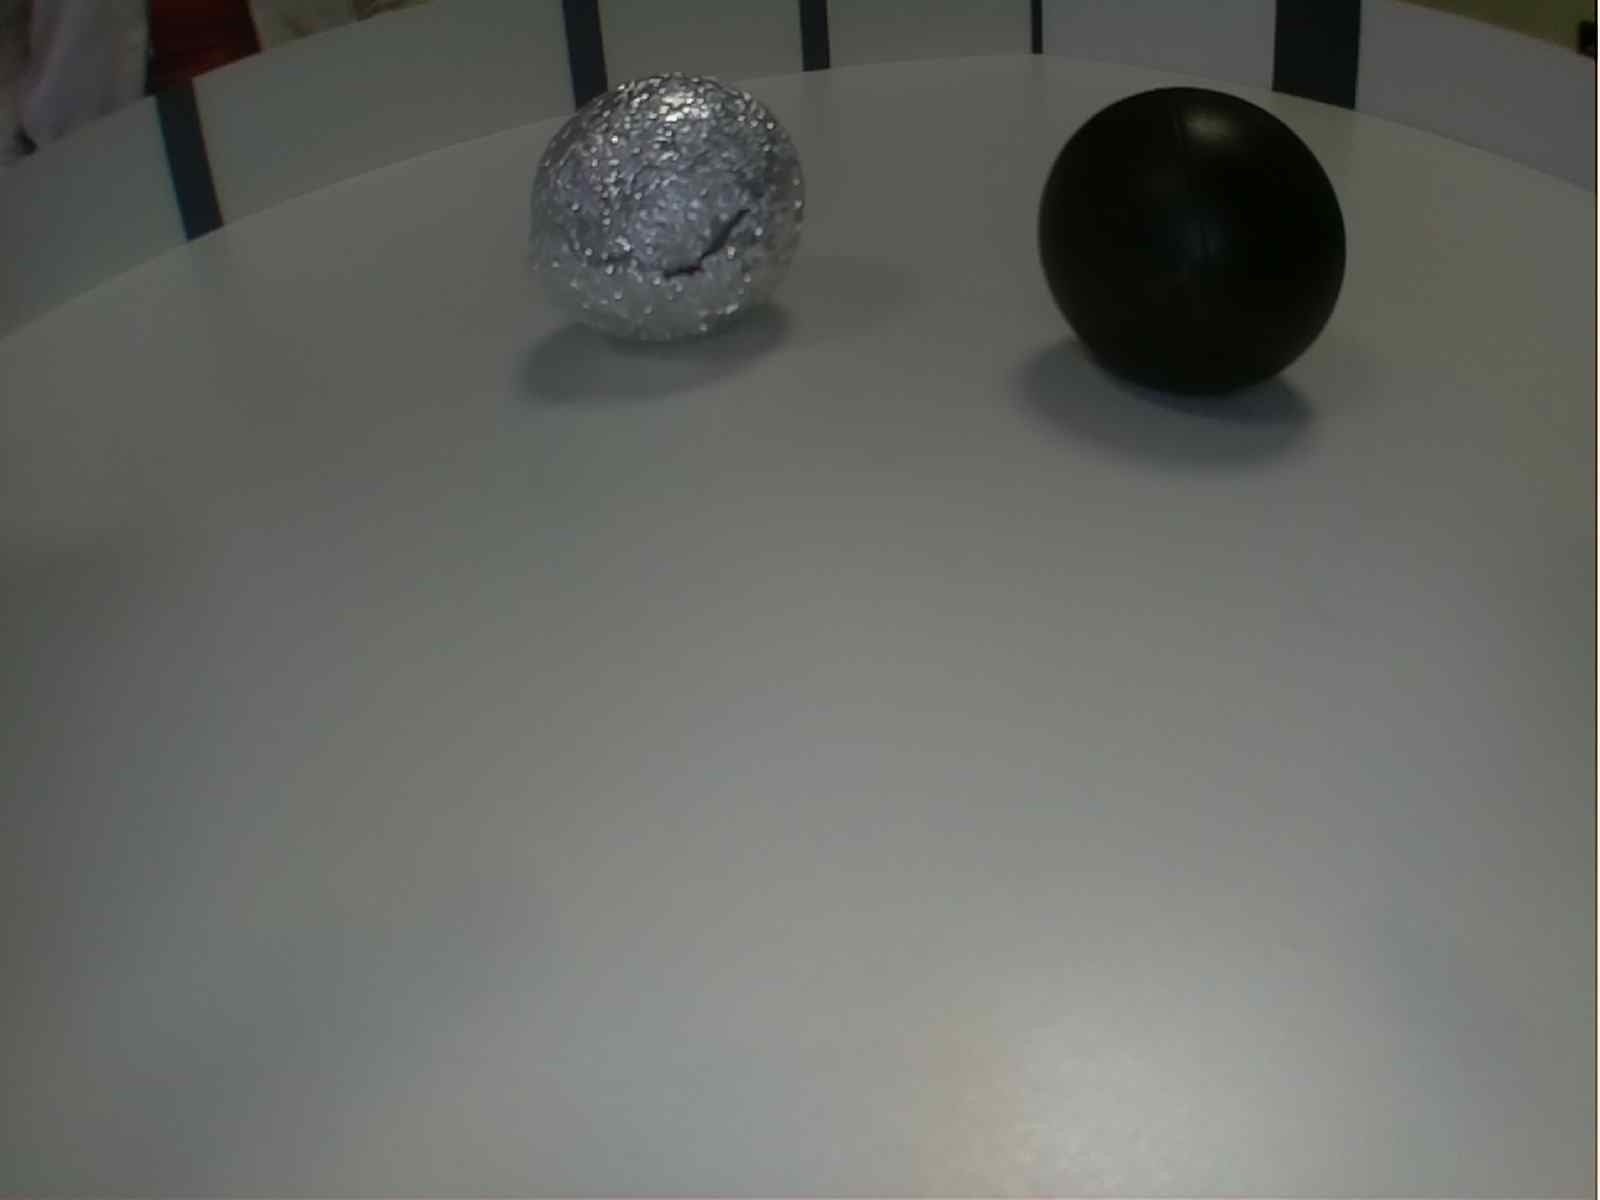bianca: (1037, 76, 1351, 421), (518, 64, 814, 350)
